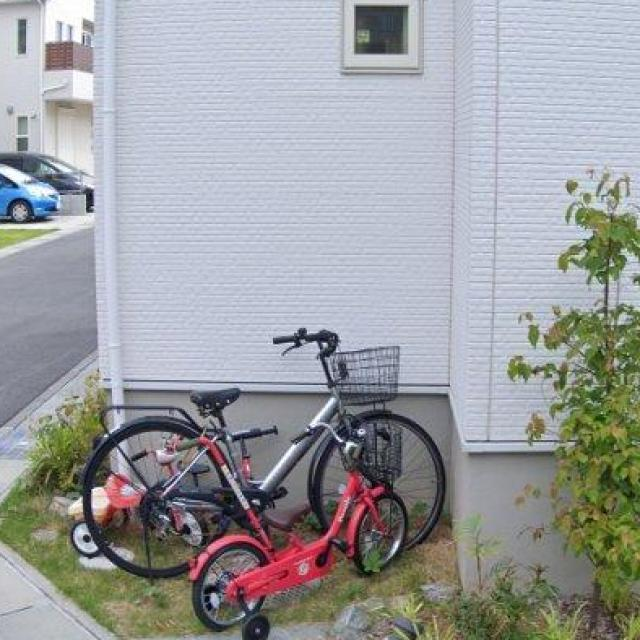bicycle: (79, 331, 446, 631)
